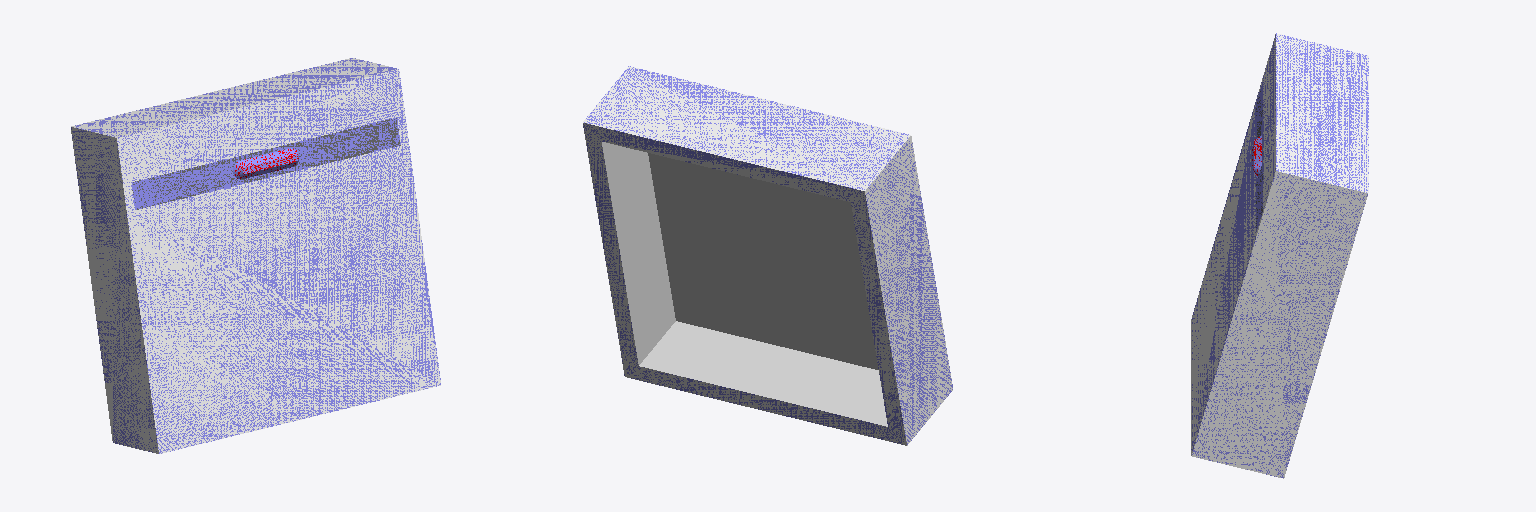
Rendered from original-14.obj.
The picture shows the model from 3 angles: view 1: azimuth 30°, elevation 25°; view 2: azimuth 150°, elevation 25°; view 3: azimuth 270°, elevation 25°; orthographic projection.
Visible parts, largest first — view 1: Group3/mesh26/mesh26-geometry#mesh26-geometry; view 2: Group3/mesh26/mesh26-geometry#mesh26-geometry; view 3: Group3/mesh26/mesh26-geometry#mesh26-geometry.
Boxes of the visible parts, <box> form: Group3/mesh26/mesh26-geometry#mesh26-geometry: <box>71,58,440,453</box>; Group3/mesh26/mesh26-geometry#mesh26-geometry: <box>583,66,952,445</box>; Group3/mesh26/mesh26-geometry#mesh26-geometry: <box>1191,33,1368,478</box>.
Size of the model in its own units: 0.6803 by 0.7089 by 0.3693.